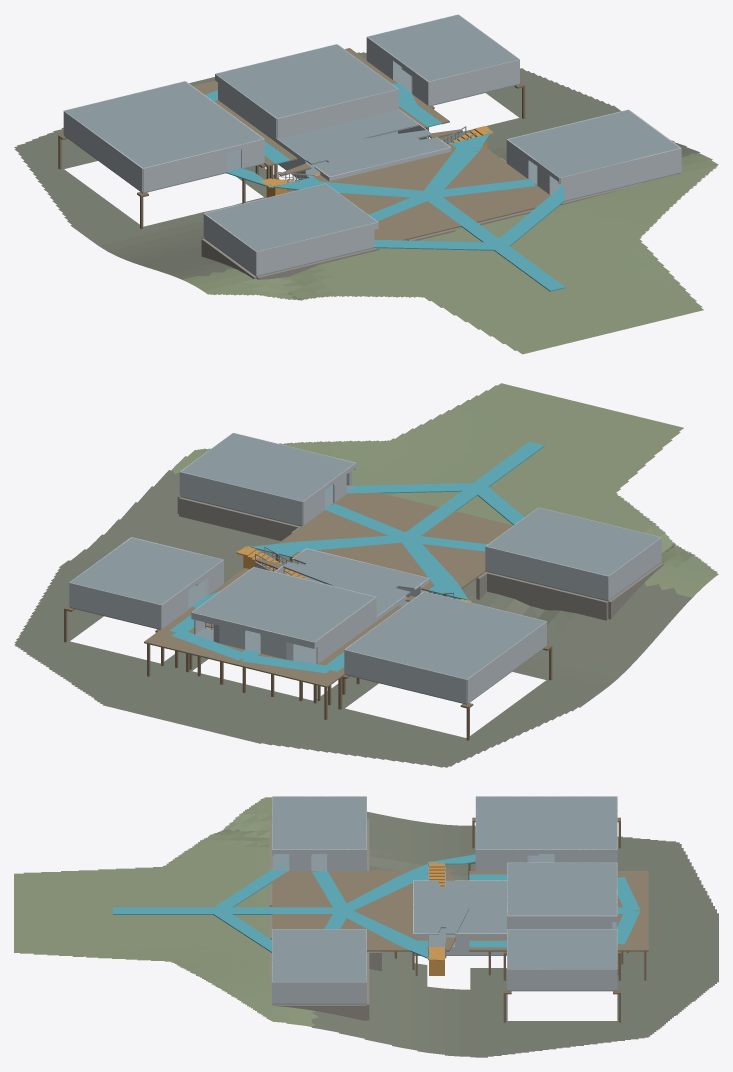
Rendered from guarded-stairs.glb.
The picture shows the model from 3 angles, top to bottom: view 1: azimuth 30°, elevation 25°; view 2: azimuth 150°, elevation 25°; view 3: azimuth 270°, elevation 25°; orthographic projection. The views are drawn at different scales.
Parts seen in each view (by area): view 1: Saved editor macroterrain WLD-06, Ceiling cap boathouse, Ceiling cap fish, Ceiling cap cottage-a, Ceiling cap cottage-b, Ceiling cap net, Flat route shell Wall cottage-a S, Flat route shell Wall cottage-b S, Wall fish S, Wall net S, Flat route shell Wall boathouse S, Wall boathouse W (+23 smaller); view 2: Saved editor macroterrain WLD-06, Ceiling cap boathouse, Ceiling cap fish, Ceiling cap cottage-b, Ceiling cap cottage-a, Ceiling cap net, Wall cottage-a N, Wall boathouse N, Wall cottage-b N, Wall net N, Wall boathouse W, Flat route shell Wall fish W (+17 smaller); view 3: Saved editor macroterrain WLD-06, Ceiling cap boathouse, Ceiling cap fish, Ceiling cap cottage-a, Ceiling cap cottage-b, Ceiling cap net, Wall net E, Wall cottage-b E, Flat route shell Wall fish E, Flat route shell Wall boathouse E.001, Ceiling cap undercroft, Ceiling cap undercroft.004 (+23 smaller).
Boxes of the visible parts, x1,y1,x2,y2 form: Saved editor macroterrain WLD-06: (14,52,718,354); Ceiling cap boathouse: (64,81,263,167); Ceiling cap fish: (216,44,397,118); Ceiling cap cottage-a: (205,184,376,251); Ceiling cap cottage-b: (508,110,679,177); Ceiling cap net: (368,15,518,81); Flat route shell Wall cottage-a S: (256,222,378,275); Flat route shell Wall cottage-b S: (560,148,681,200); Wall fish S: (277,89,398,138); Wall net S: (428,59,519,105); Flat route shell Wall boathouse S: (143,148,226,192); Wall boathouse W: (63,111,142,192); Saved editor macroterrain WLD-06: (14,383,718,767); Ceiling cap boathouse: (345,591,545,678); Ceiling cap fish: (192,567,375,641); Ceiling cap cottage-b: (181,433,354,501); Ceiling cap cottage-a: (486,507,660,575); Ceiling cap net: (70,538,222,604); Wall cottage-a N: (485,546,608,600); Wall boathouse N: (344,649,466,703); Wall cottage-b N: (180,471,302,525); Wall net N: (69,582,161,628); Wall boathouse W: (467,621,546,703); Flat route shell Wall fish W: (314,597,376,664); Saved editor macroterrain WLD-06: (14,797,718,1057); Ceiling cap boathouse: (476,796,617,849); Ceiling cap fish: (507,863,617,915); Ceiling cap cottage-a: (272,796,366,849); Ceiling cap cottage-b: (272,929,366,981); Ceiling cap net: (507,929,617,968); Wall net E: (507,968,617,990); Wall cottage-b E: (272,982,366,1003); Flat route shell Wall fish E: (507,915,617,928); Flat route shell Wall boathouse E.001: (476,849,538,871); Ceiling cap undercroft: (469,880,506,906); Ceiling cap undercroft.004: (469,908,506,933).
Bounding box in the file's own units: 70 × 7.86 × 90.
32 materials, 13 textured.
